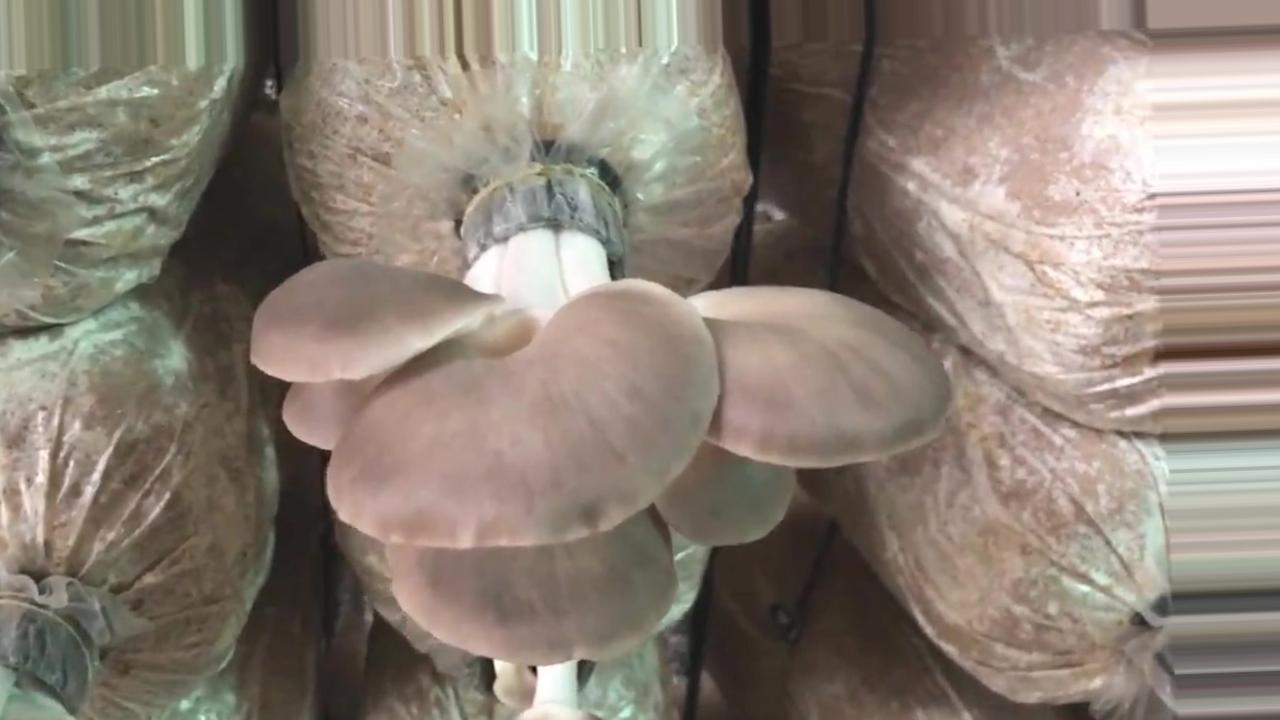nam: (251, 165, 953, 666)
